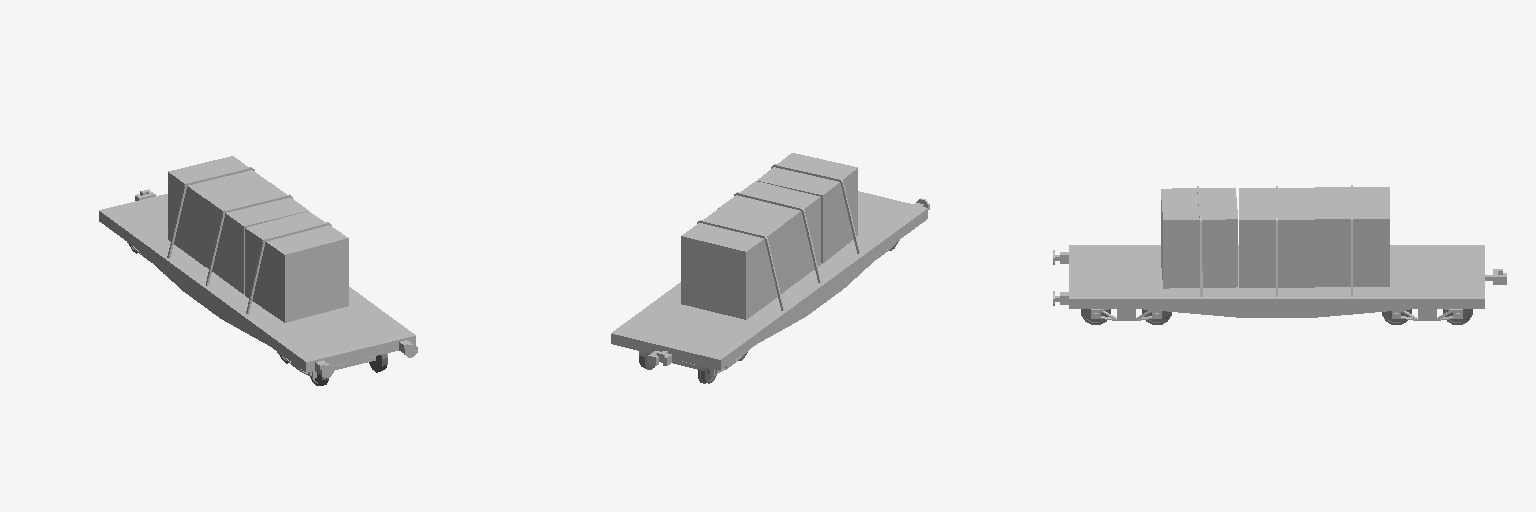
Rendered from dlxtrains_industrial_wagons_transition_type1_loaded3.obj.
3 views of the same model, side by side, from view 1: azimuth 30°, elevation 25°; view 2: azimuth 150°, elevation 25°; view 3: azimuth 270°, elevation 25° (orthographic).
Visible parts, largest first — view 1: dlxtrains_industrial_wagons_transition_type1_loaded3; view 2: dlxtrains_industrial_wagons_transition_type1_loaded3; view 3: dlxtrains_industrial_wagons_transition_type1_loaded3.
Boxes of the visible parts, <box> form: dlxtrains_industrial_wagons_transition_type1_loaded3: <box>99,156,417,385</box>; dlxtrains_industrial_wagons_transition_type1_loaded3: <box>611,153,929,383</box>; dlxtrains_industrial_wagons_transition_type1_loaded3: <box>1053,185,1506,324</box>.
Size of the model in its own units: 16.88 by 15.98 by 60.44.